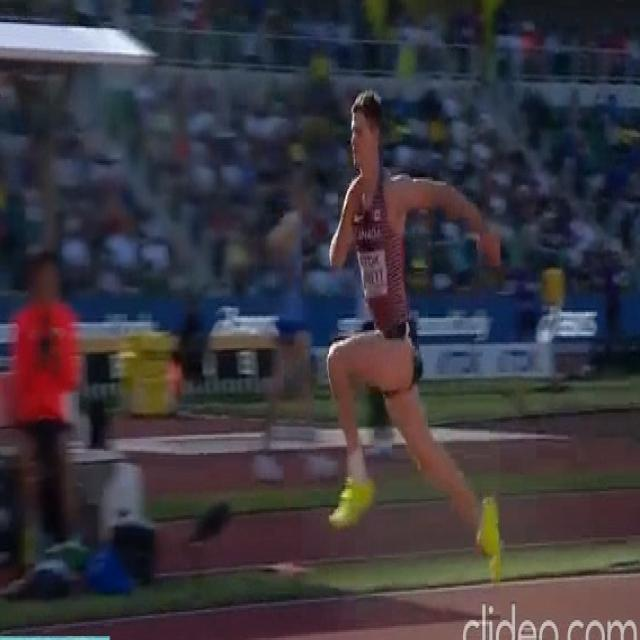run: (329, 84, 500, 586)
